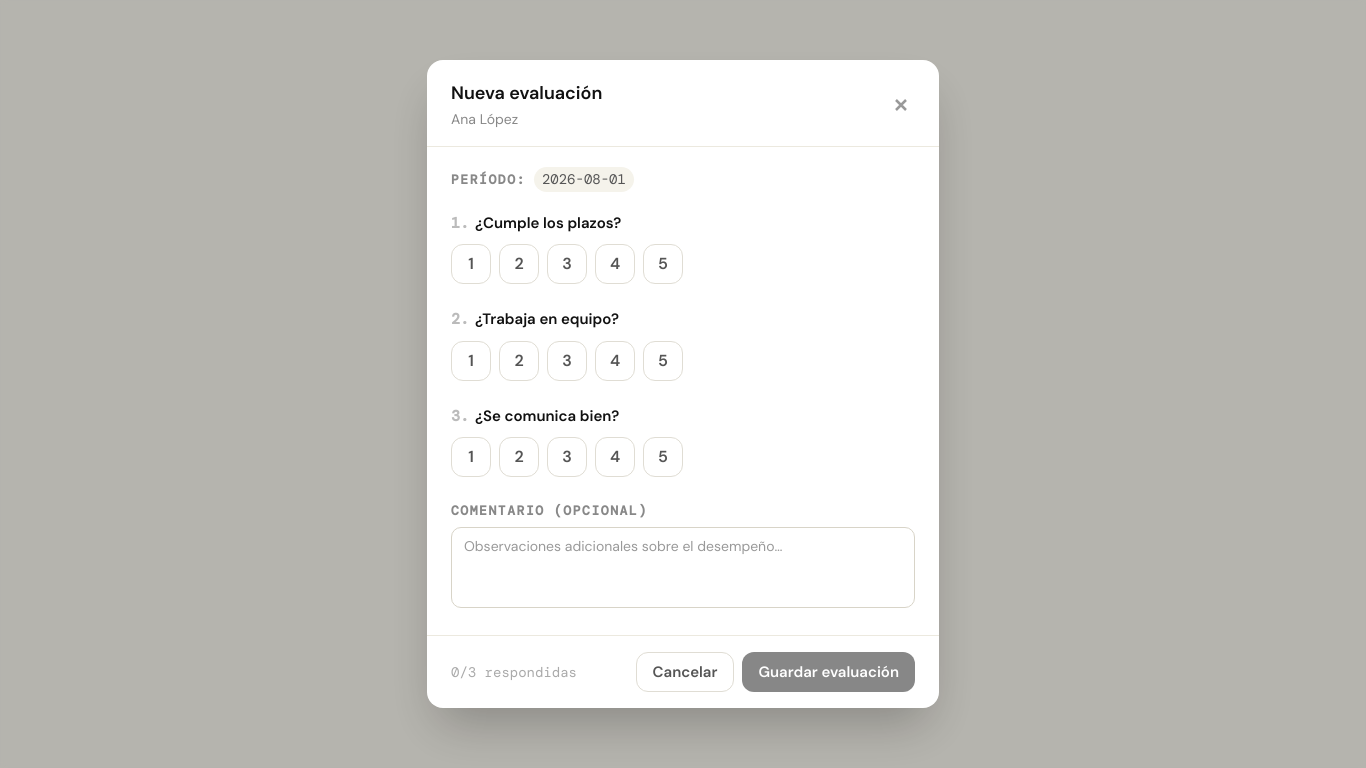
Scenario: EvaluationModal › el botón Guardar se habilita al responder todas las preguntas
Expected: the text "¿Cumple los plazos?" is shown, [475, 213, 621, 233]
What coordinates should you click on to do the following:
click the button named "Opción 5"
I would click on:
 (663, 264)
Its box is [643, 244, 683, 284].
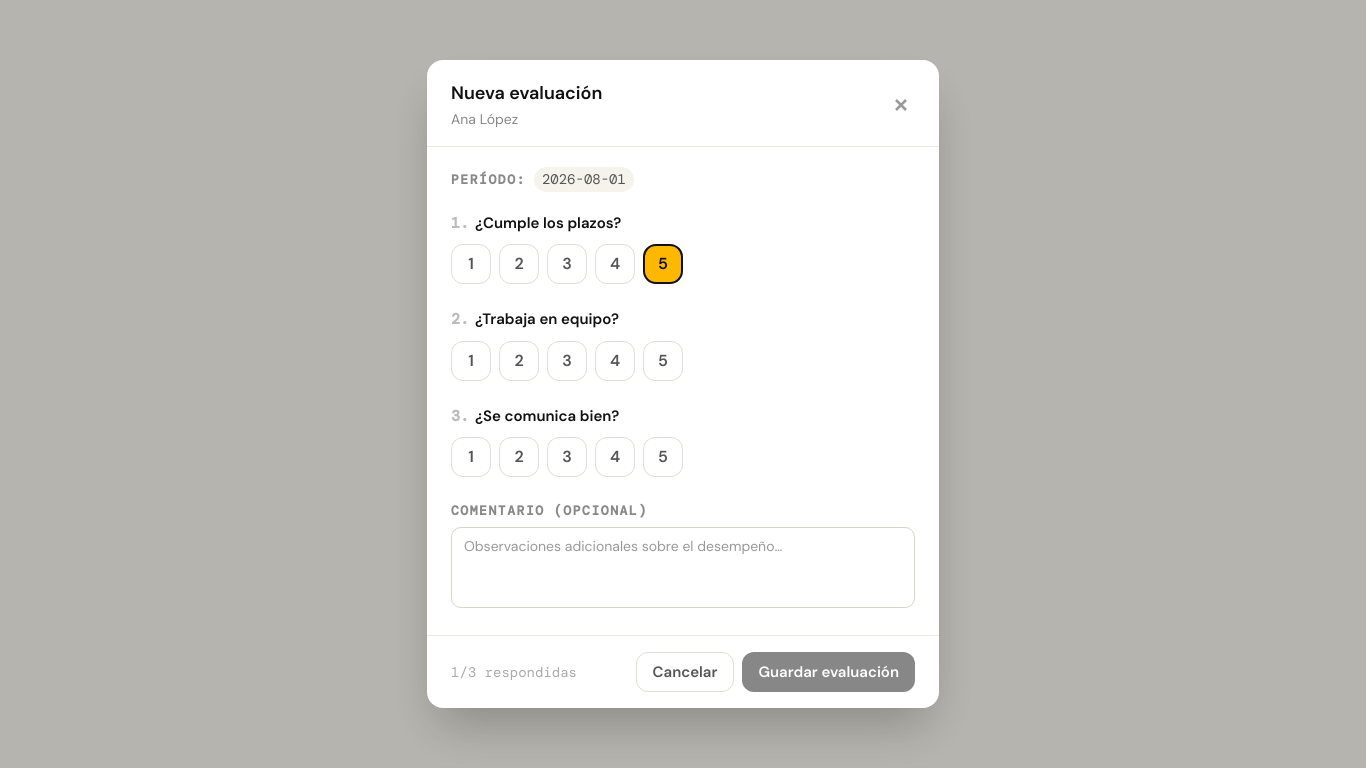
What coordinates should you click on to do the following:
click the button named "Opción 5"
I would click on:
 (663, 361)
Its box is [643, 341, 683, 381].
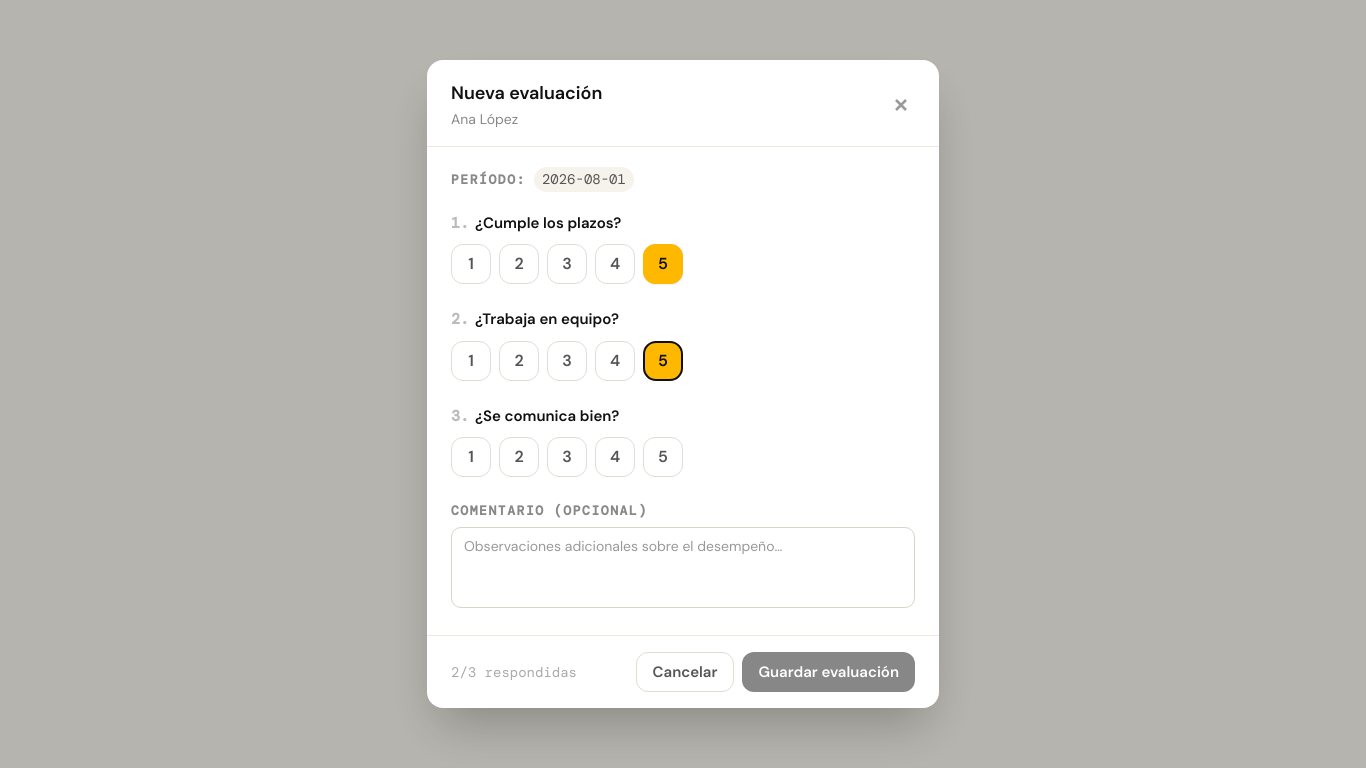
What coordinates should you click on to do the following:
click the button named "Opción 5"
I would click on:
 (663, 457)
Its box is [643, 437, 683, 477].
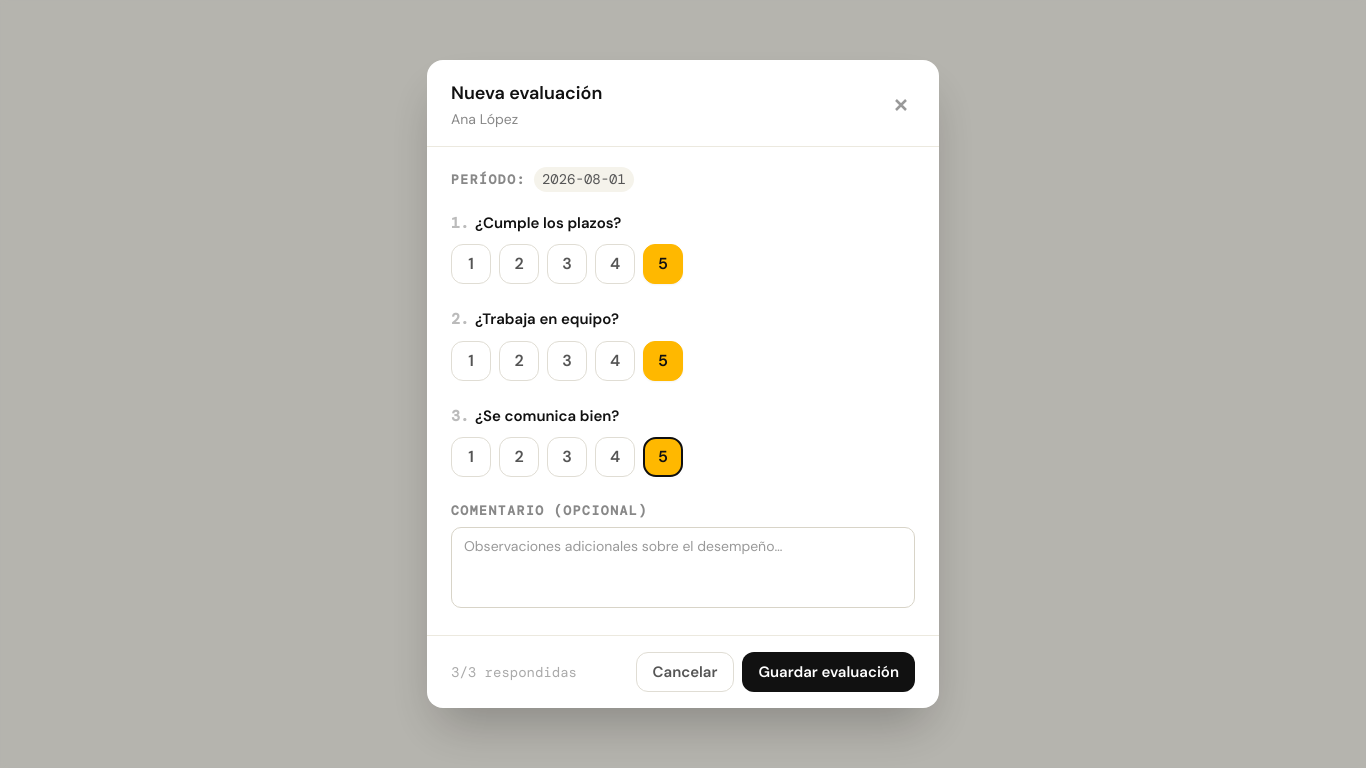
Expected: the button "Guardar evaluación" is enabled, [742, 652, 915, 692]
